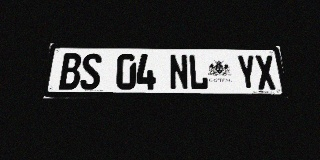0: (116, 54, 136, 90)
4: (136, 54, 156, 90)
B: (59, 53, 82, 90)
L: (188, 54, 209, 90)
N: (169, 54, 189, 90)
S: (80, 53, 102, 90)
X: (254, 55, 277, 90)
Y: (236, 55, 258, 90)
